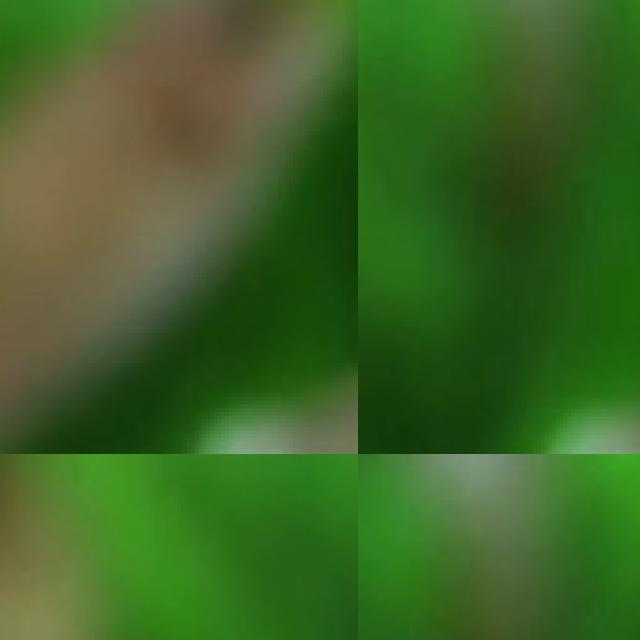fish: (0, 0, 358, 454)
